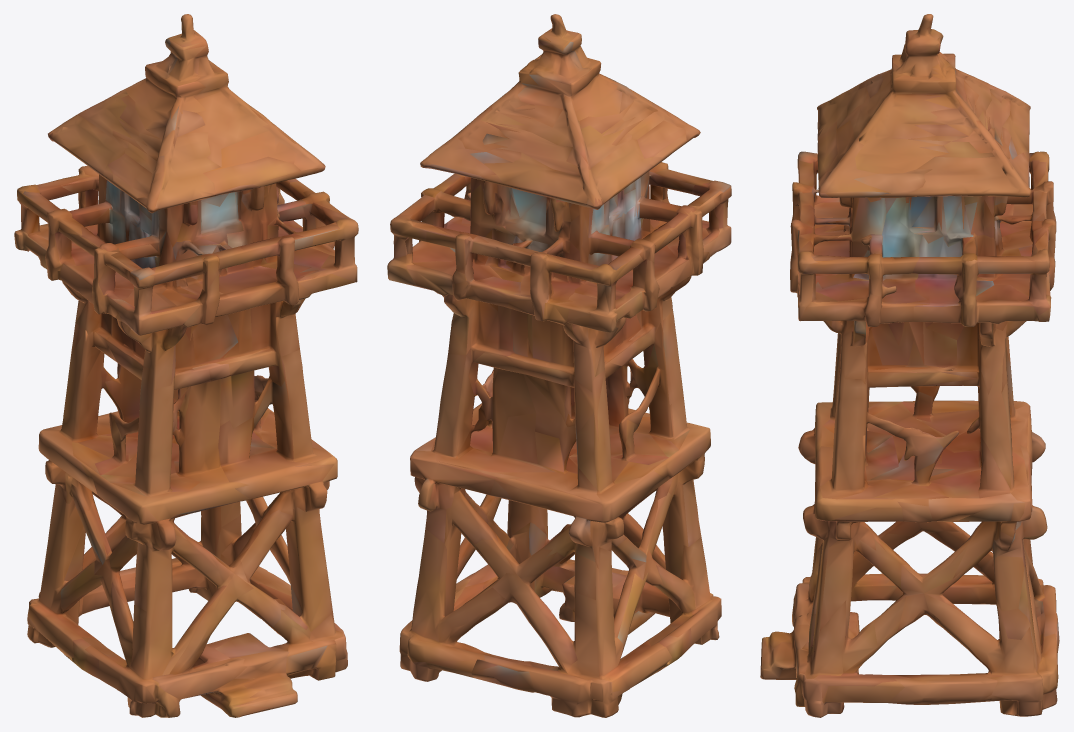
Rendered from tower.glb.
3 views of the same model, side by side, from view 1: azimuth 30°, elevation 25°; view 2: azimuth 150°, elevation 25°; view 3: azimuth 270°, elevation 25° (orthographic). The views are drawn at different scales.
Size of the model in its own units: 0.7814 by 2 by 0.8325.
Materials: 1 (1 with a texture image).
